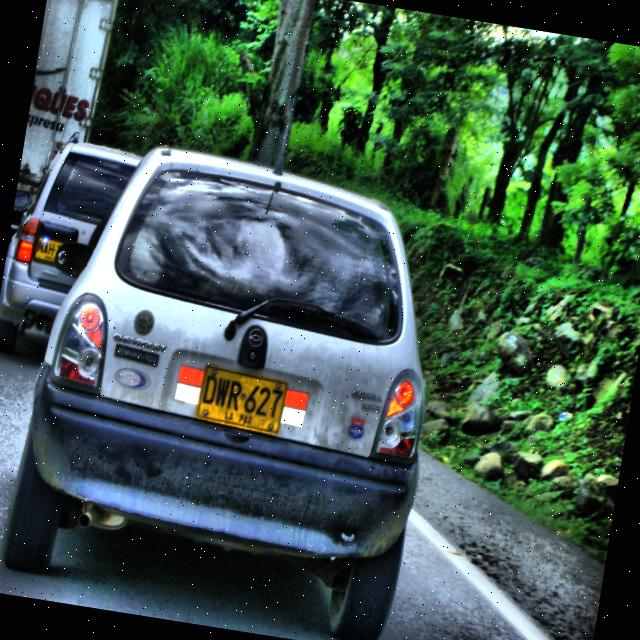2: (254, 387, 272, 418)
6: (243, 385, 261, 415)
7: (268, 388, 285, 420)
D: (201, 375, 219, 405)
R: (226, 380, 243, 410)
W: (214, 378, 231, 408)
